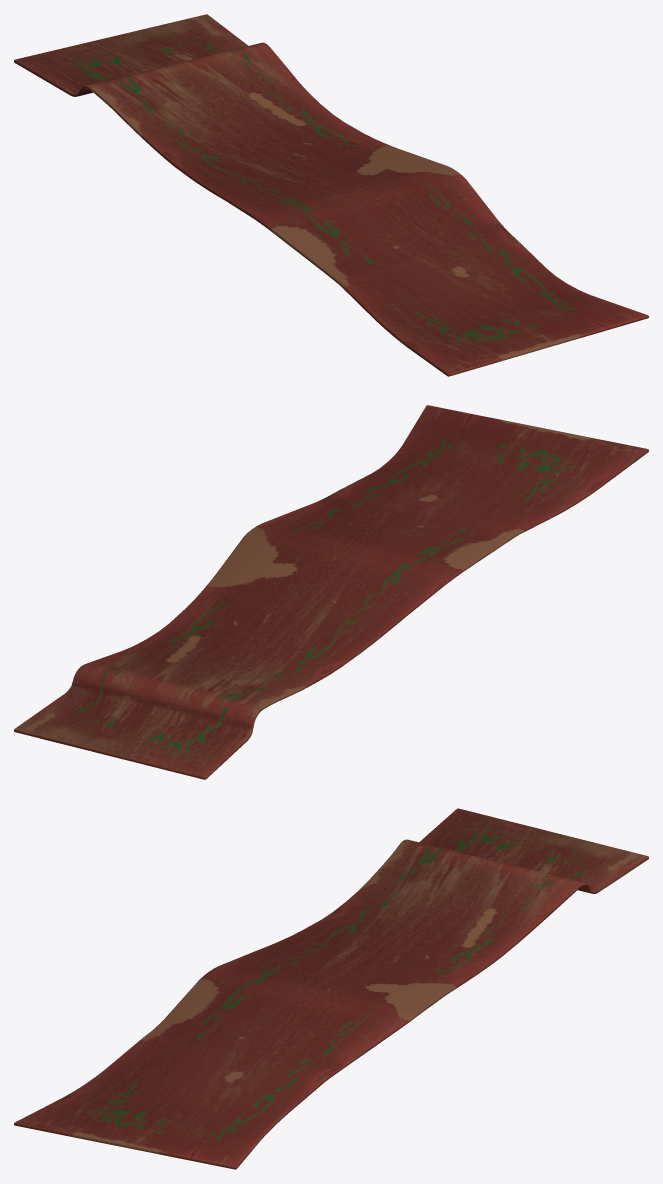
File: SM_Carpet_01.fbx
3 views of the same model, one above another, from view 1: azimuth 30°, elevation 25°; view 2: azimuth 150°, elevation 25°; view 3: azimuth 330°, elevation 25° (orthographic).
Parts seen in each view (by area): view 1: SM_Carpet_01_LOD0; view 2: SM_Carpet_01_LOD0; view 3: SM_Carpet_01_LOD0.
Boxes of the visible parts, x1,y1,x2,y2 form: SM_Carpet_01_LOD0: (14, 14, 648, 376); SM_Carpet_01_LOD0: (14, 405, 648, 779); SM_Carpet_01_LOD0: (14, 808, 648, 1169).
Bounding box in the file's own units: 131 × 470 × 12.77.
1 material, 1 textured.
